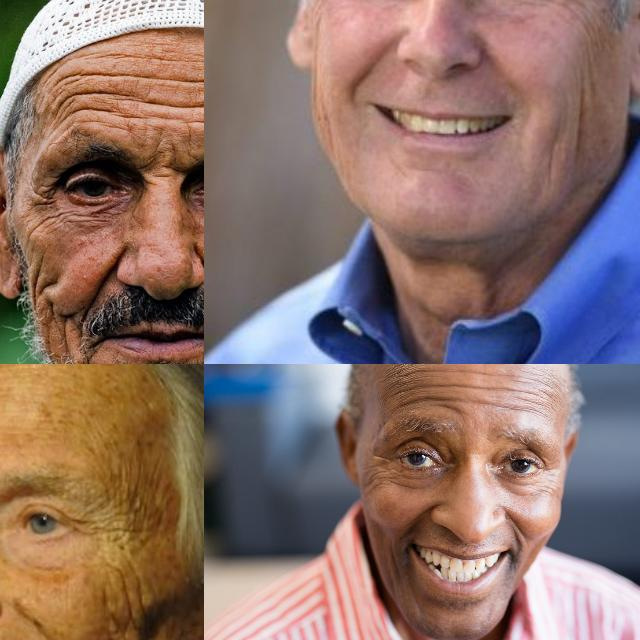crows_feet: (74, 504, 144, 552), (24, 181, 64, 217), (372, 450, 398, 484), (544, 0, 587, 8)
forehead: (96, 66, 150, 126), (155, 63, 204, 122), (52, 75, 94, 119), (520, 383, 556, 421), (432, 392, 468, 421), (392, 379, 424, 411), (436, 372, 476, 396), (485, 381, 515, 411)
frown_line: (144, 150, 184, 187)
gummy_smile: (86, 252, 122, 314), (8, 597, 55, 640), (347, 47, 375, 103), (506, 512, 530, 546)
masseter: (25, 263, 65, 323), (104, 590, 151, 640), (569, 74, 591, 148), (384, 546, 402, 576)
